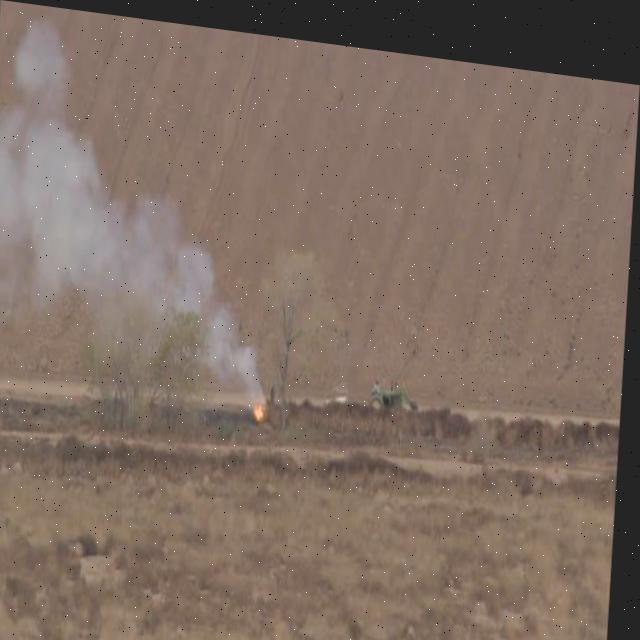Fire: (236, 358, 282, 432)
